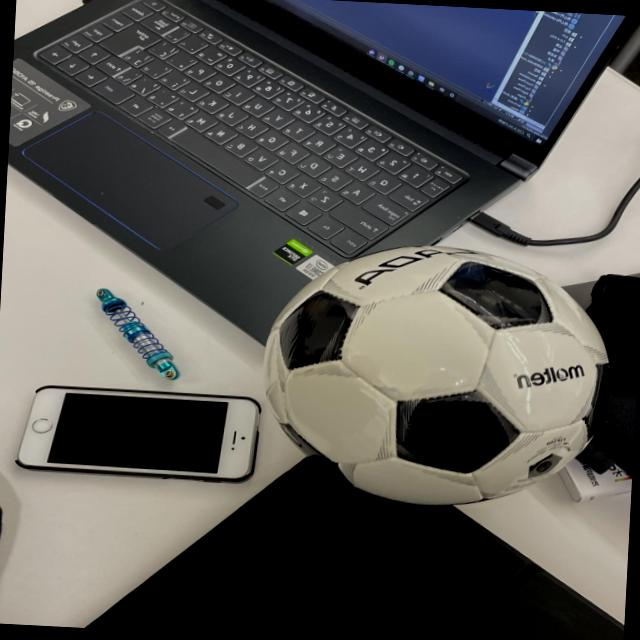Soccer Ball: (255, 228, 618, 518)
